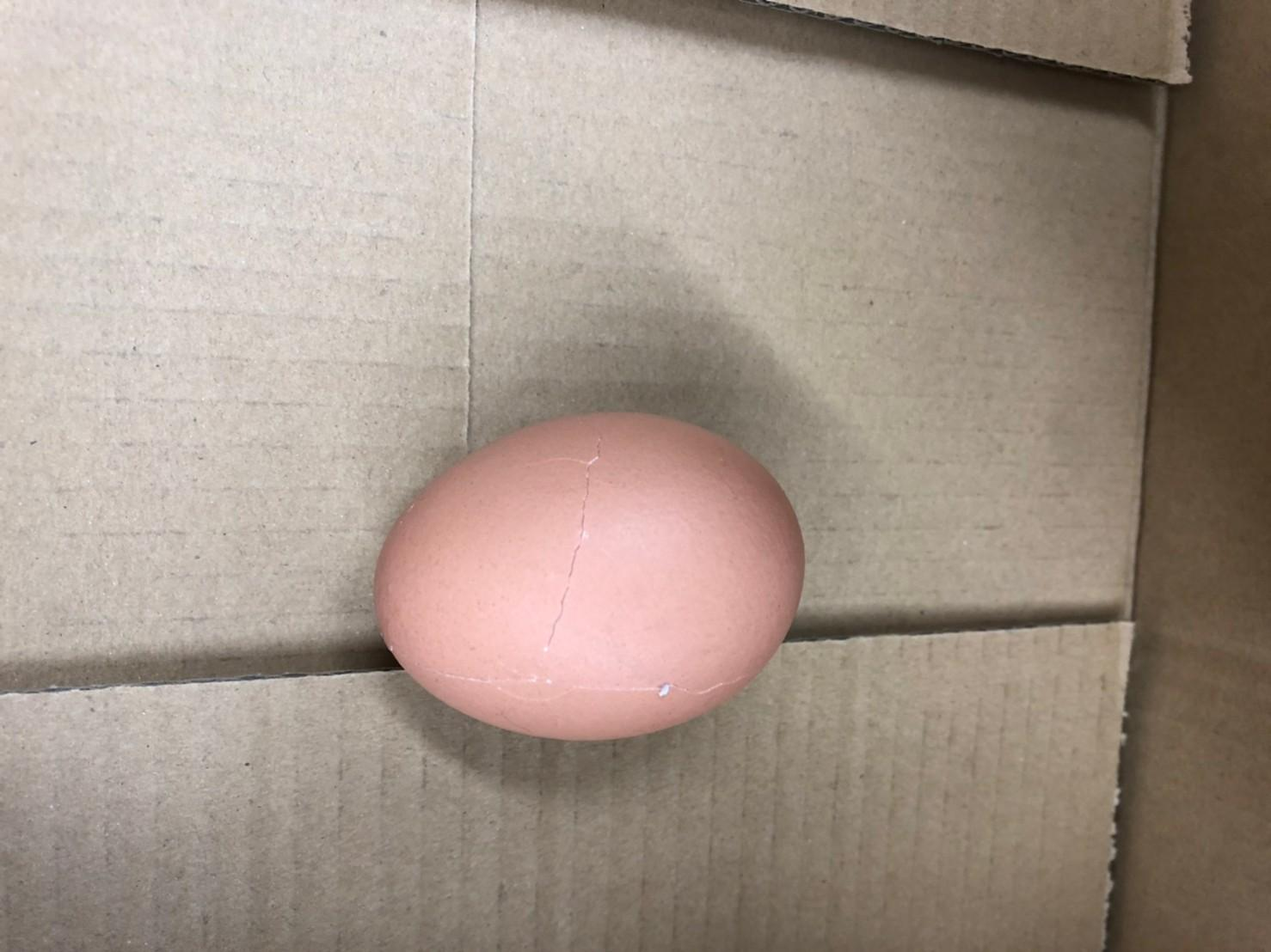egg: (362, 400, 812, 747)
